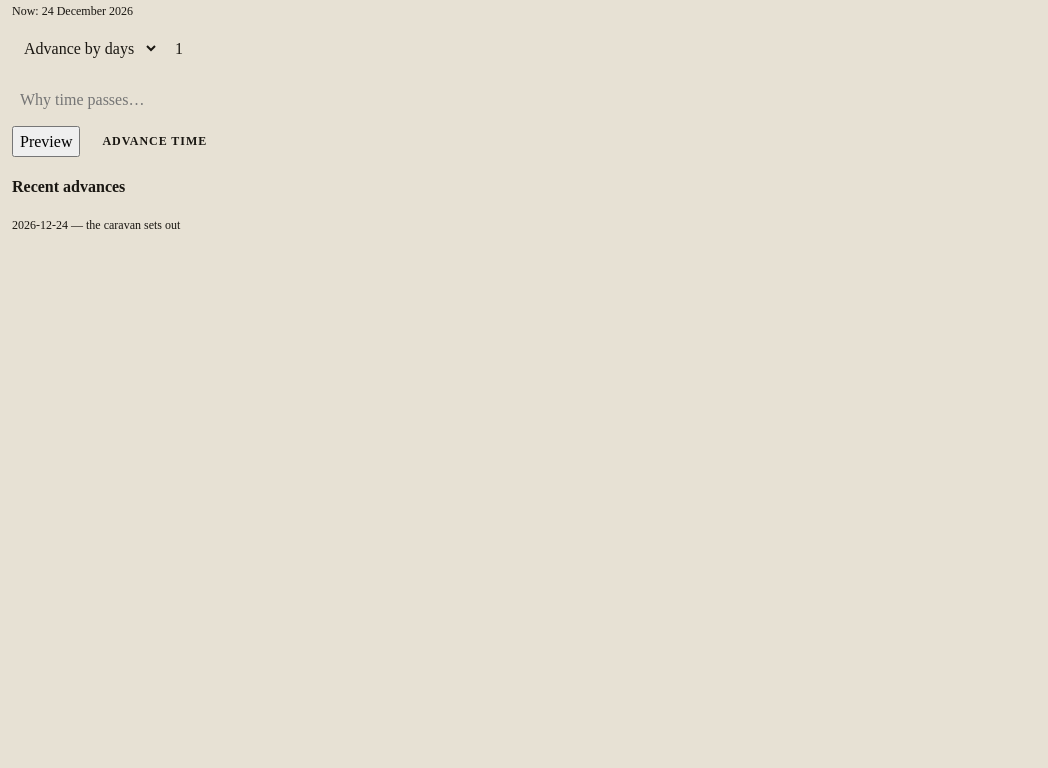
Scenario: previews the digest without advancing
This screenshot has width=1048, height=768.
Expected: the text "Now: 24 December 2026" is shown, [12, 4, 133, 18]
Replace the text in the number field named "Days" with "3": (602, 48) [167, 31, 1036, 66]
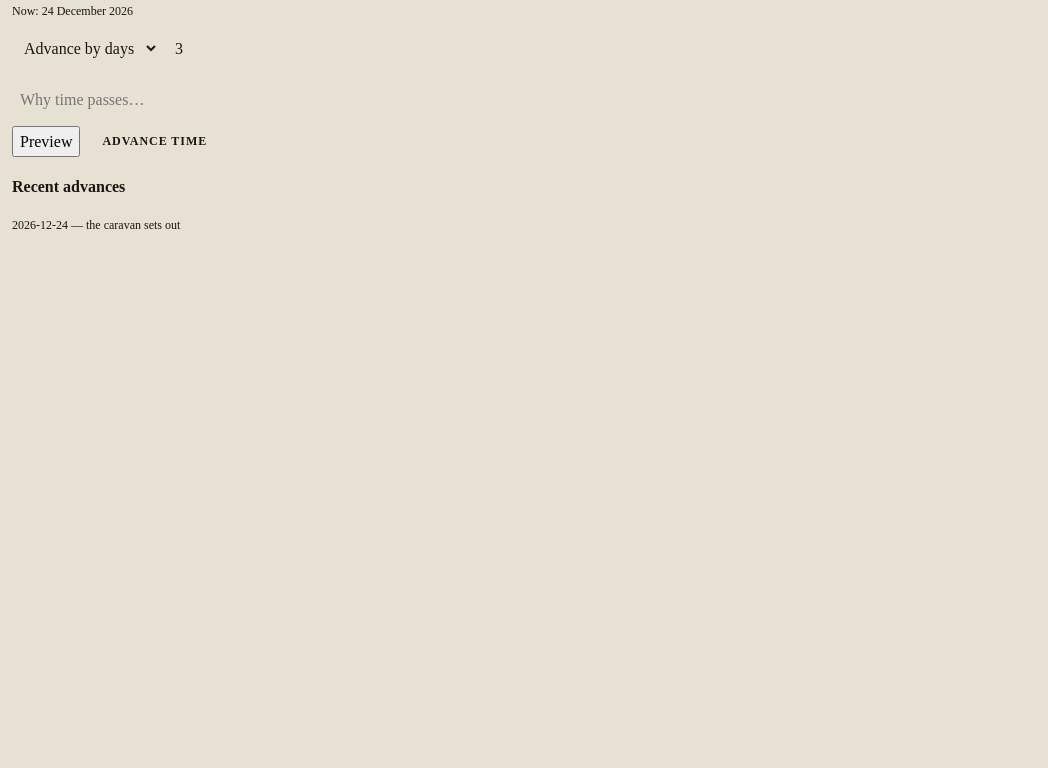
Click the button "Preview": click(46, 142) [12, 126, 80, 157]
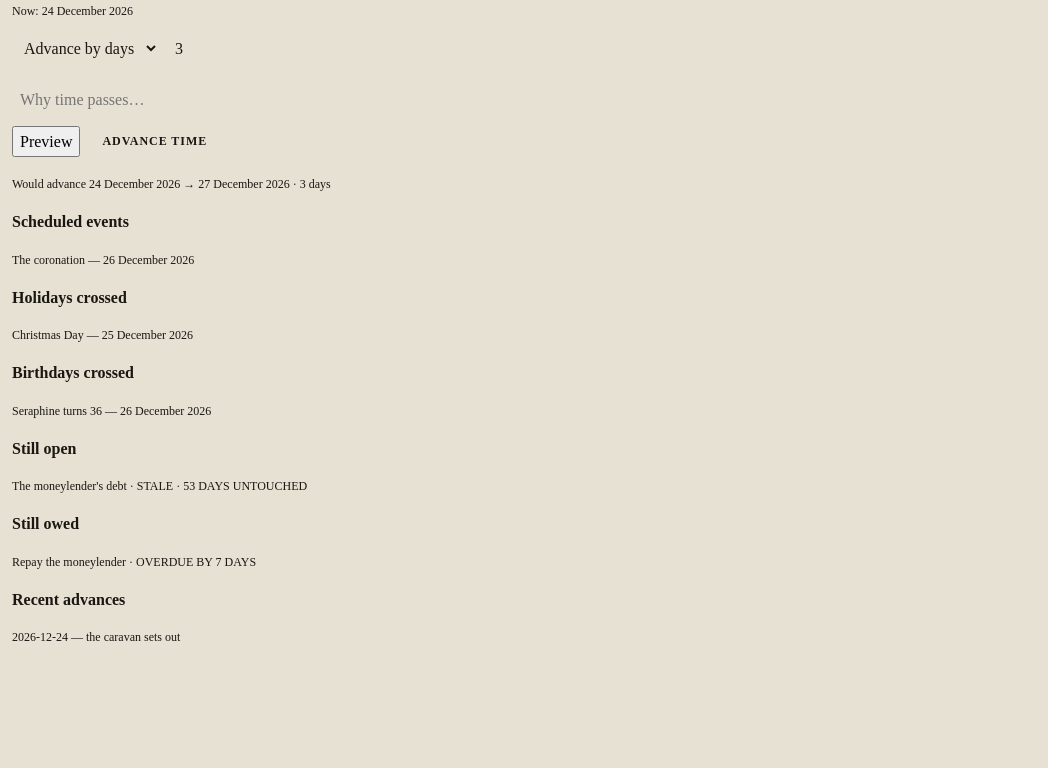
Expected: the text "Would advance 24 December 2026 → 27 December 2026 · 3 days" is shown, [12, 177, 331, 191]
Expected: the text "Christmas Day — 25 December 2026" is shown, [12, 328, 193, 342]
Expected: the text "Seraphine turns 36 — 26 December 2026" is shown, [12, 404, 211, 418]
